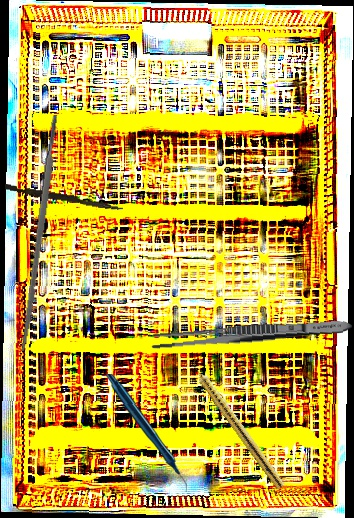Dressing Forceps: (150, 315, 353, 353)
Handpiece: (185, 356, 289, 491), (103, 374, 190, 492)
Pusher: (4, 183, 124, 212)
Scalpel Handle: (18, 114, 62, 352)
